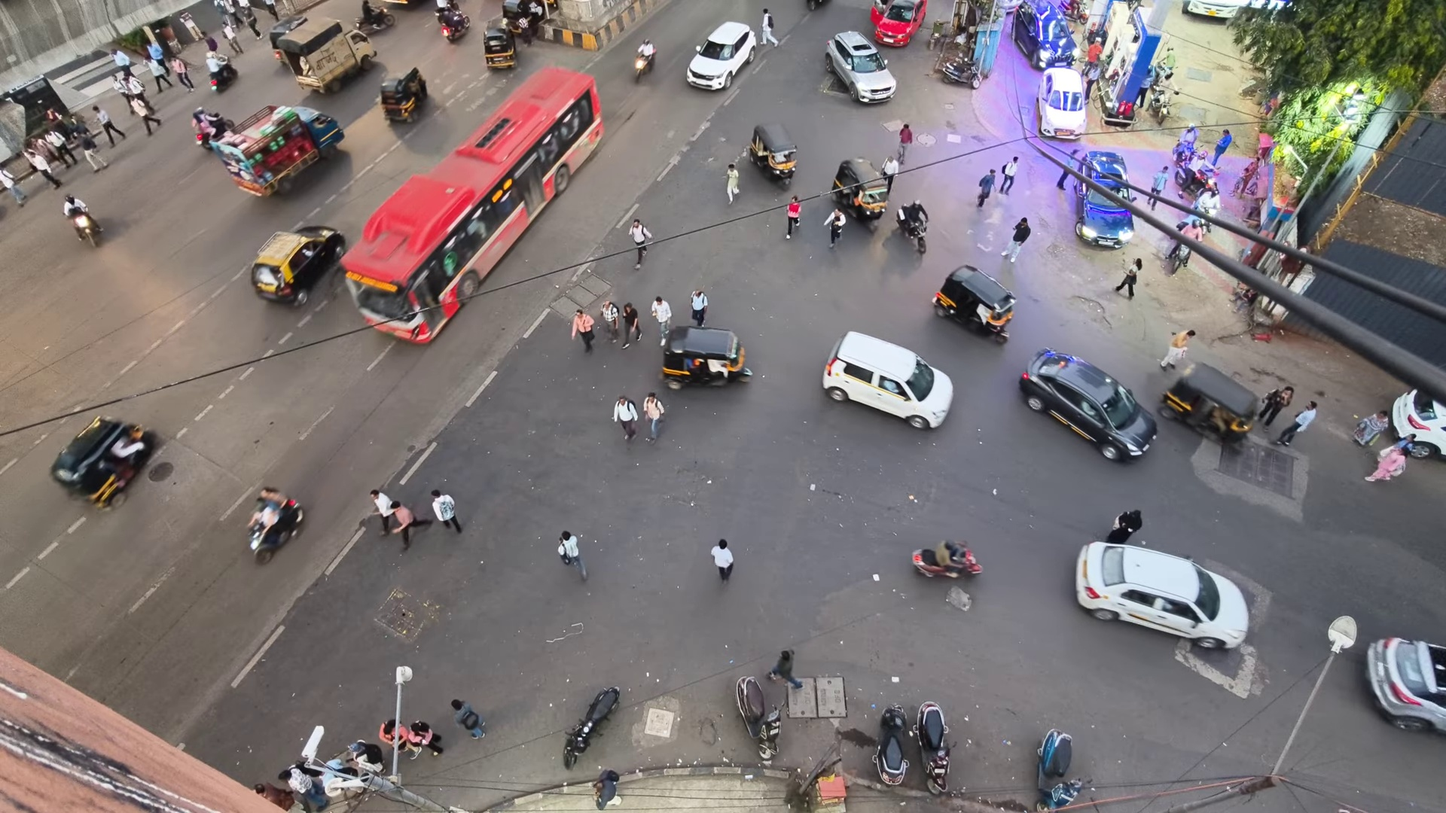driving: (342, 68, 602, 342), (1075, 543, 1248, 648), (1019, 349, 1156, 460), (822, 331, 953, 428), (209, 105, 343, 196), (50, 416, 158, 507), (250, 226, 345, 305), (276, 19, 376, 93), (1366, 639, 1445, 732), (932, 266, 1015, 343), (662, 327, 750, 389), (825, 32, 897, 102), (685, 22, 757, 90), (1011, 0, 1080, 68), (831, 157, 889, 227), (1075, 181, 1133, 247), (1391, 390, 1445, 458), (1036, 68, 1087, 139), (748, 123, 796, 185), (379, 67, 428, 122), (870, 0, 927, 46)
walking: (279, 762, 329, 812), (391, 501, 432, 550), (1276, 400, 1316, 446), (379, 720, 419, 758), (1258, 386, 1294, 428), (23, 150, 60, 187), (1160, 329, 1195, 368), (559, 530, 586, 580), (450, 699, 484, 738), (431, 489, 461, 533), (93, 105, 125, 146), (1001, 218, 1030, 262), (1353, 411, 1389, 446), (1105, 510, 1142, 544), (769, 650, 802, 688), (45, 129, 78, 166), (348, 740, 384, 773), (612, 395, 638, 440), (78, 132, 108, 171), (130, 97, 160, 136), (410, 720, 443, 755), (628, 218, 651, 268), (643, 391, 665, 442), (650, 295, 672, 346), (593, 769, 621, 809), (1115, 258, 1142, 298), (0, 167, 27, 206), (255, 783, 294, 810), (370, 489, 392, 536), (621, 302, 642, 348), (571, 309, 593, 352), (711, 539, 733, 582), (123, 75, 150, 107), (599, 300, 619, 343), (148, 59, 173, 93), (170, 56, 194, 91), (825, 208, 845, 248), (1211, 129, 1232, 166), (1084, 61, 1102, 104), (239, 5, 261, 39), (760, 8, 779, 46), (880, 155, 899, 192), (222, 20, 243, 53), (978, 169, 996, 207), (999, 157, 1017, 193), (786, 196, 801, 239), (691, 289, 707, 327), (111, 73, 130, 105), (1178, 216, 1203, 240), (898, 123, 913, 163), (111, 48, 131, 75), (1150, 166, 1169, 194), (517, 16, 534, 47), (726, 164, 739, 203), (259, 0, 278, 20), (201, 31, 218, 52), (1057, 169, 1069, 188)
